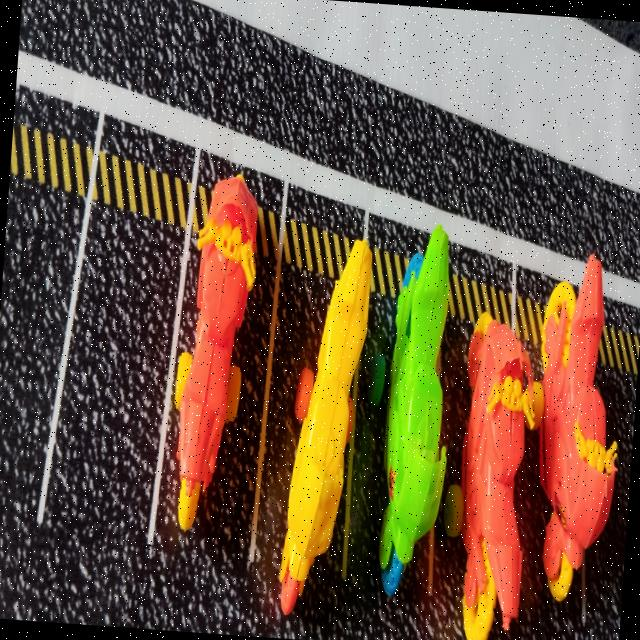occupied: (152, 152, 283, 571), (256, 239, 371, 614), (350, 225, 445, 589), (433, 232, 521, 623), (516, 266, 599, 626)
slots: (39, 198, 188, 536)
